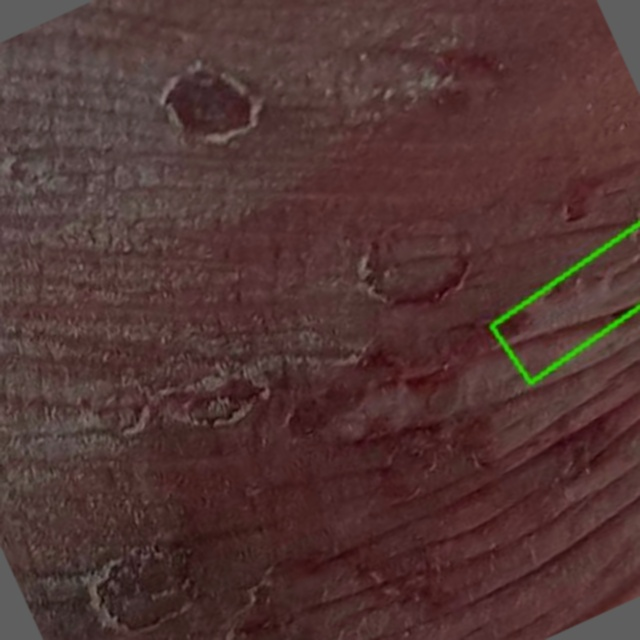Contact Dermatitis: (490, 221, 639, 384)
